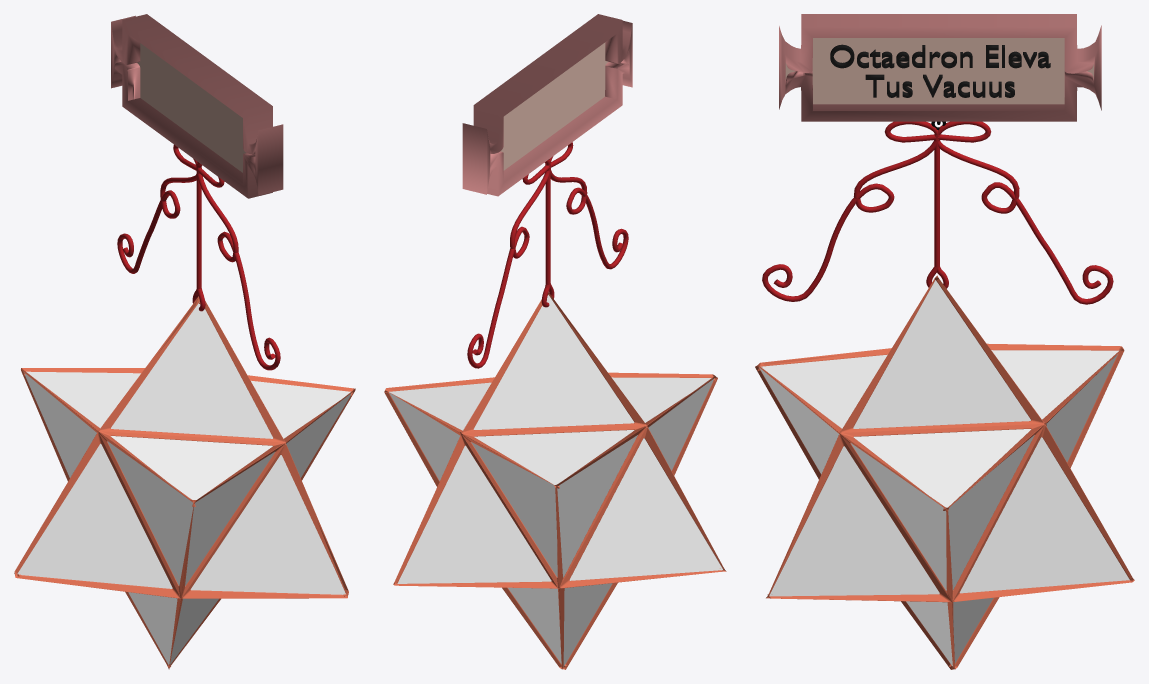
The model's file is Davinci_obra2.glb.
3 views of the same model, side by side, from view 1: azimuth 30°, elevation 25°; view 2: azimuth 150°, elevation 25°; view 3: azimuth 270°, elevation 25° (orthographic). The views are drawn at different scales.
Visible parts, largest first — view 1: Solid.005, Cube, Cube.001, BézierCurve; view 2: Solid.005, Cube, Cube.001, BézierCurve; view 3: Solid.005, Cube, Cube.001, BézierCurve, Text.
Part boxes in pixels (x1,y1,x2,y2): Solid.005: (14,296,355,669); Cube: (111,14,283,198); Cube.001: (137,43,245,172); BézierCurve: (117,144,280,370); Solid.005: (384,292,726,669); Cube: (462,14,632,196); Cube.001: (500,42,608,170); BézierCurve: (467,142,628,368); Solid.005: (755,275,1134,669); Cube: (779,14,1101,121); Cube.001: (785,38,1093,104); BézierCurve: (762,121,1113,304); Text: (830,44,1050,97).
Size of the model in its own units: 3.09 by 5.2 by 2.71.
